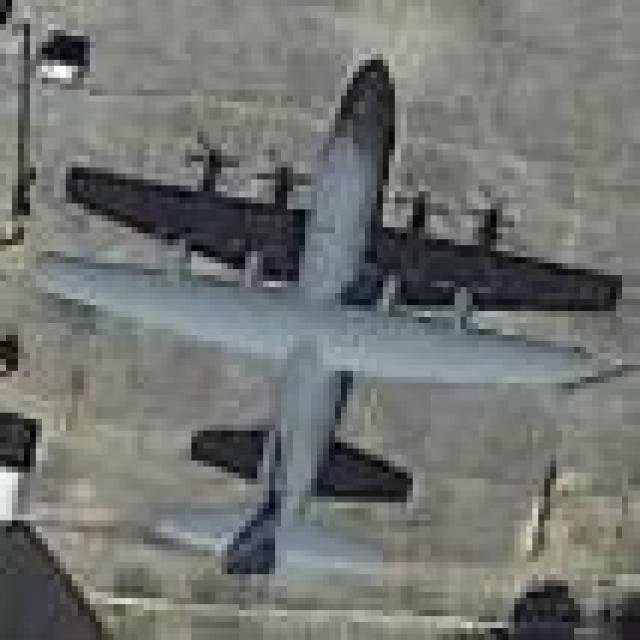C-130_TopDown: (35, 43, 631, 589)
